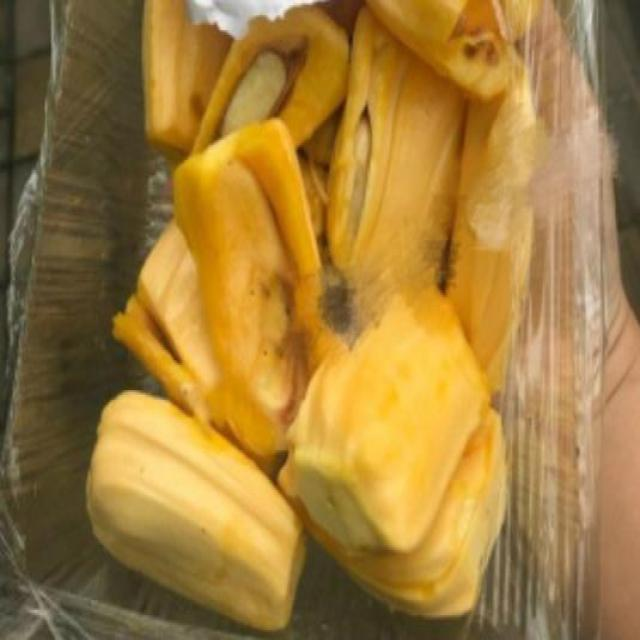Wet Waste: (85, 2, 539, 638)
